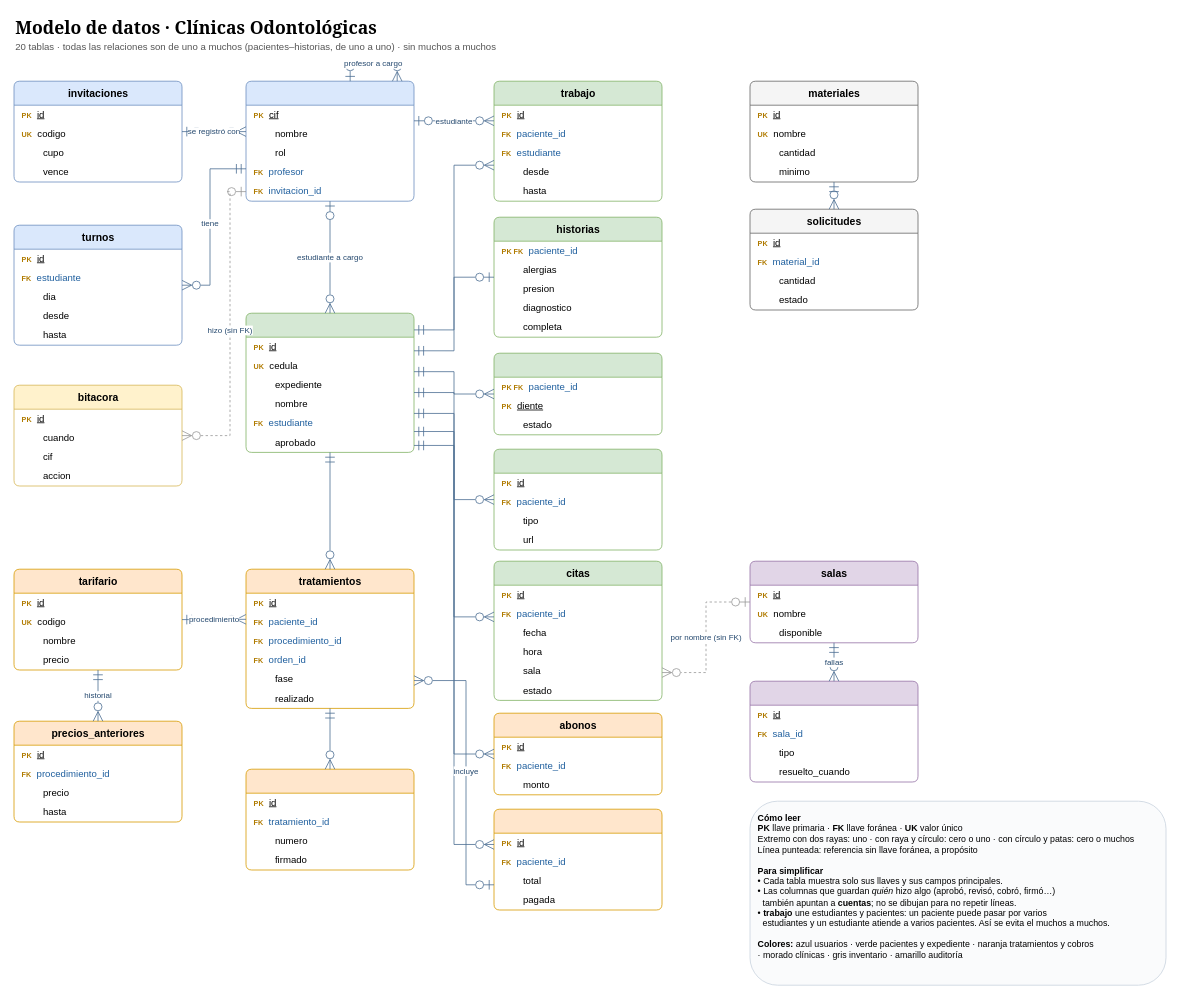
This 1180x999 diagram has some shape labels left out. Here are the shapes that lost their labels. From the top down, the box of each, then its label:
(245, 80, 414, 201): cuentas
(245, 312, 414, 452): pacientes
(493, 352, 662, 435): dientes
(493, 448, 662, 550): fotos
(749, 680, 918, 782): reportes
(245, 768, 414, 870): recibos
(493, 808, 662, 910): ordenes
